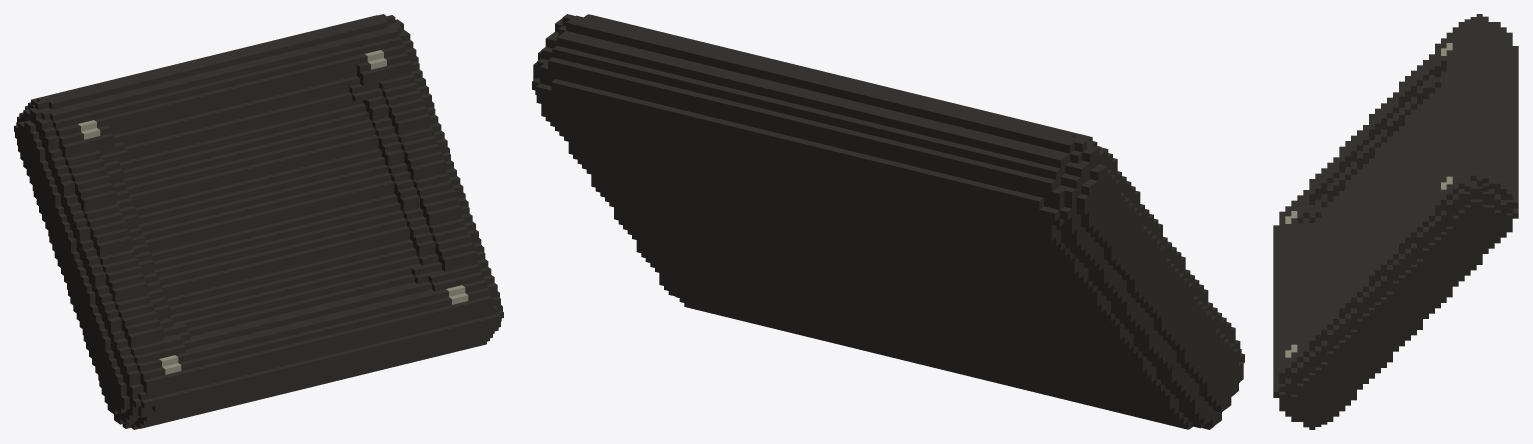
File: factory4.1+-0.obj
The picture shows the model from 3 angles, left to right: view 1: azimuth 30°, elevation 25°; view 2: azimuth 150°, elevation 25°; view 3: azimuth 270°, elevation 25°; orthographic projection. The views are drawn at different scales.
Size of the model in its own units: 7 by 4.6 by 4.1.
Materials: 1 (1 with a texture image).
